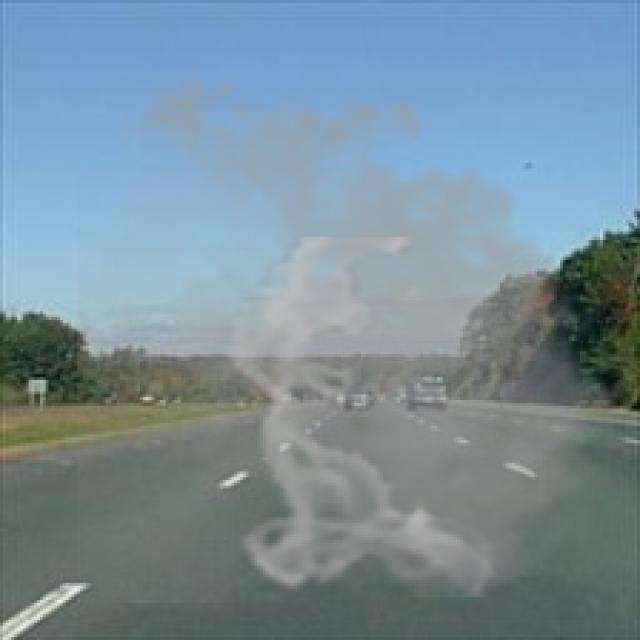smoke: (77, 60, 637, 606)
